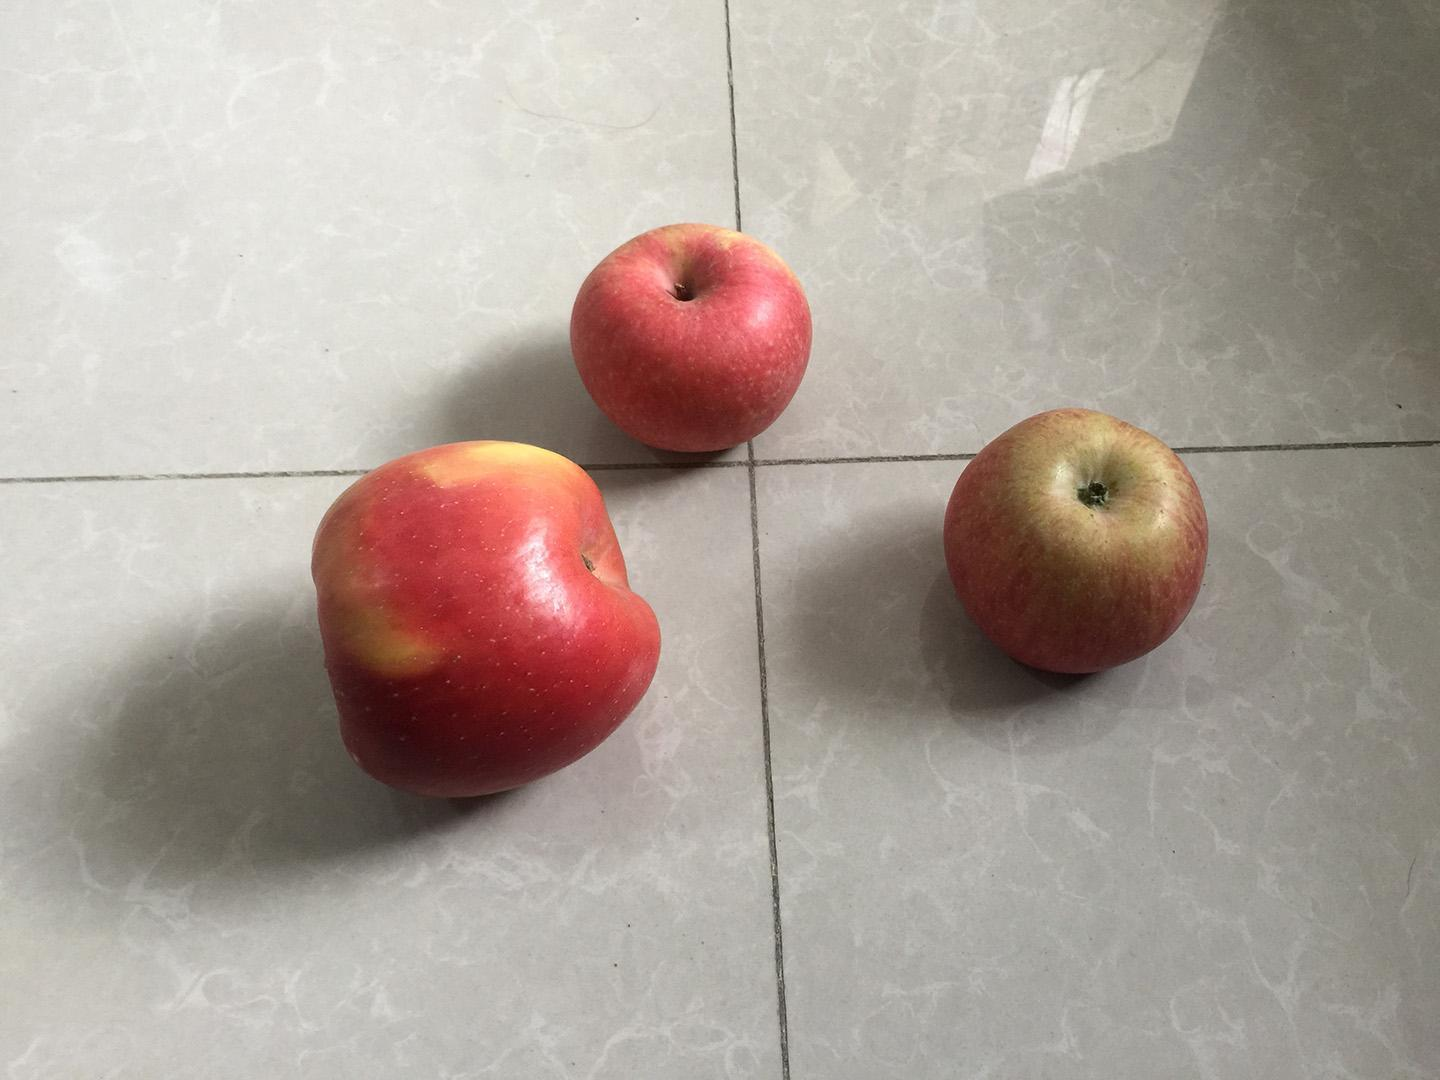apple: (300, 431, 672, 811), (934, 398, 1219, 684), (564, 217, 821, 466)
